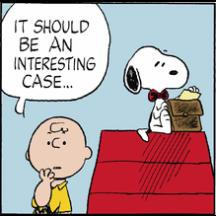charlie: (25, 116, 93, 214)
snoopy: (122, 44, 200, 142)
